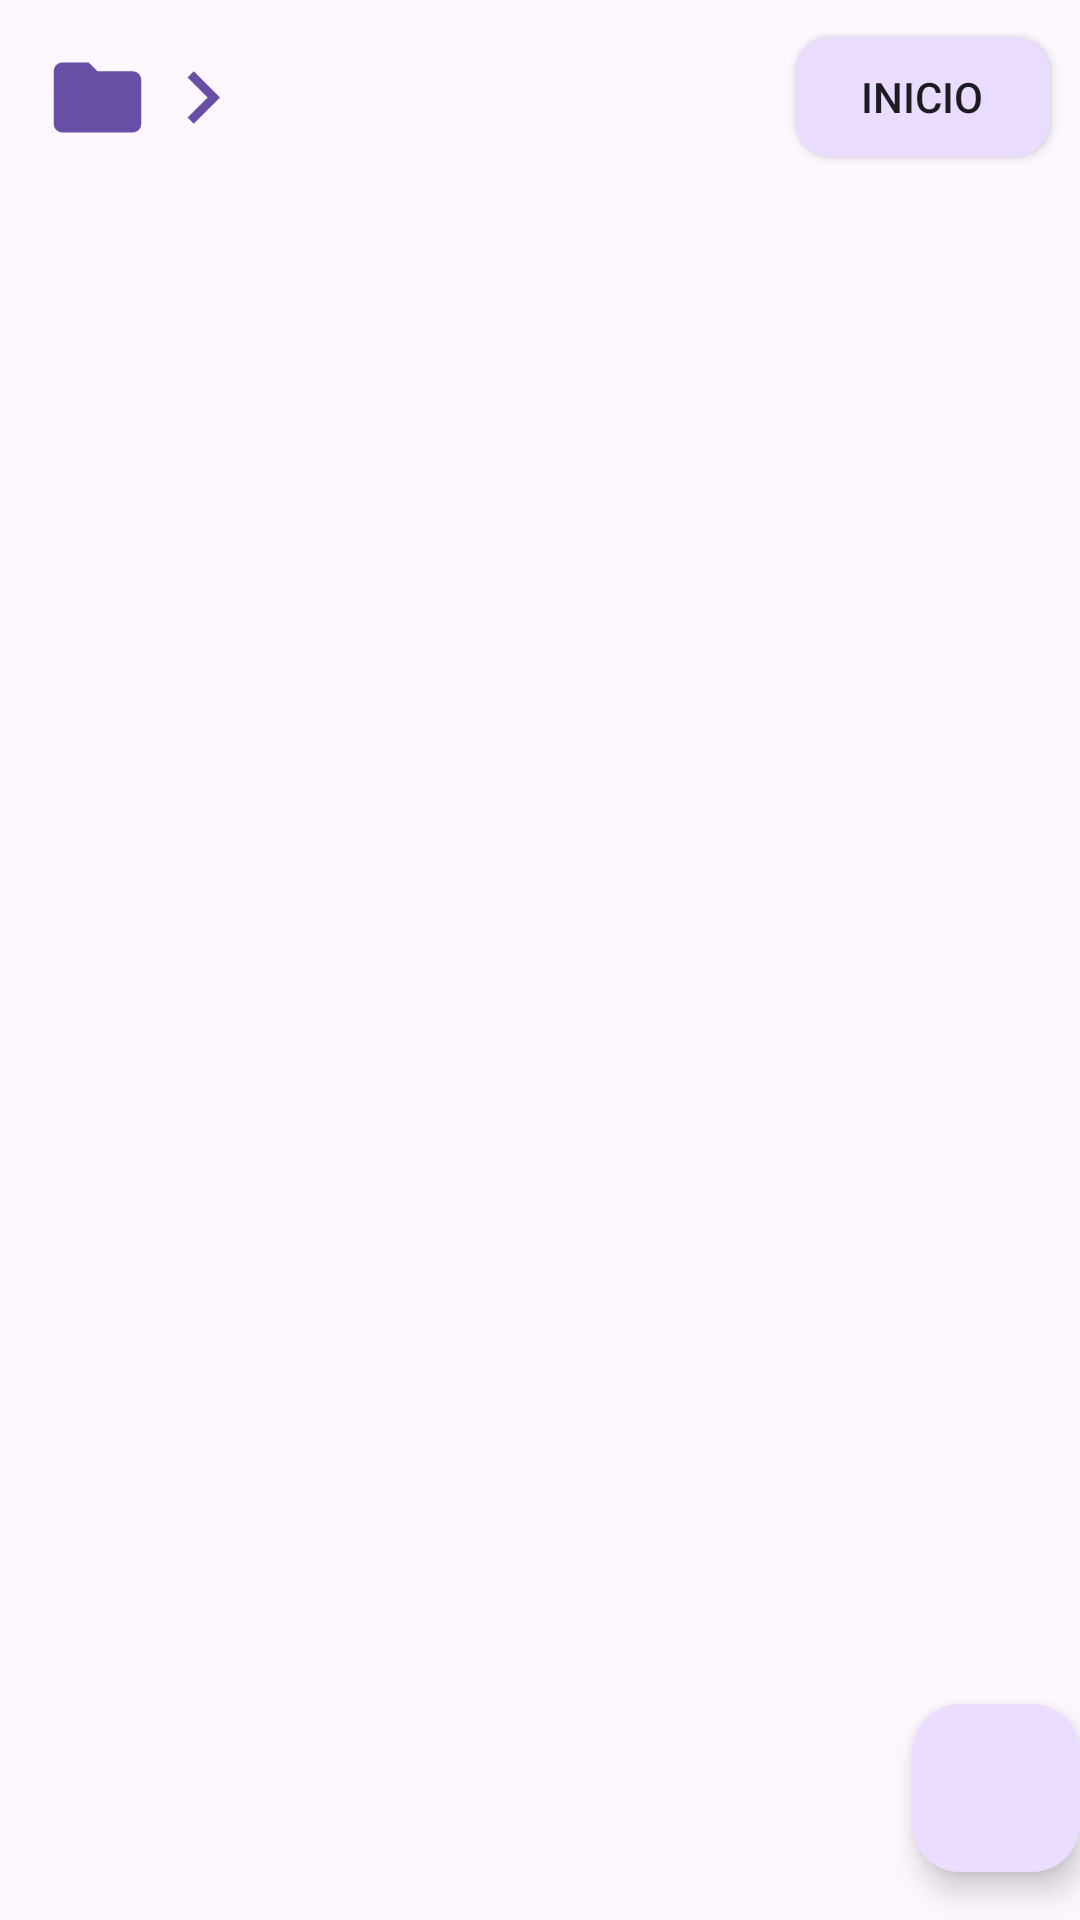

Where to tap for icons on this 1080w x 1920h app screen, as point (x, y):
folder: point (97, 97)
